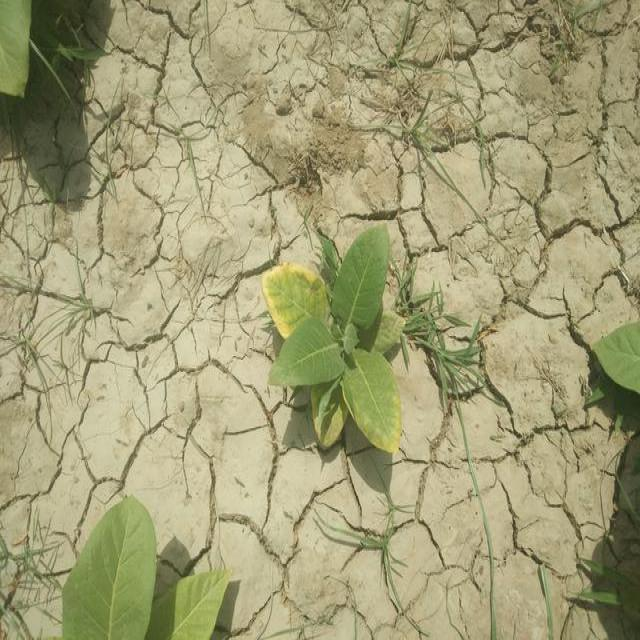crop: (260, 225, 410, 452), (33, 477, 238, 640), (0, 0, 36, 105), (594, 323, 640, 397)
